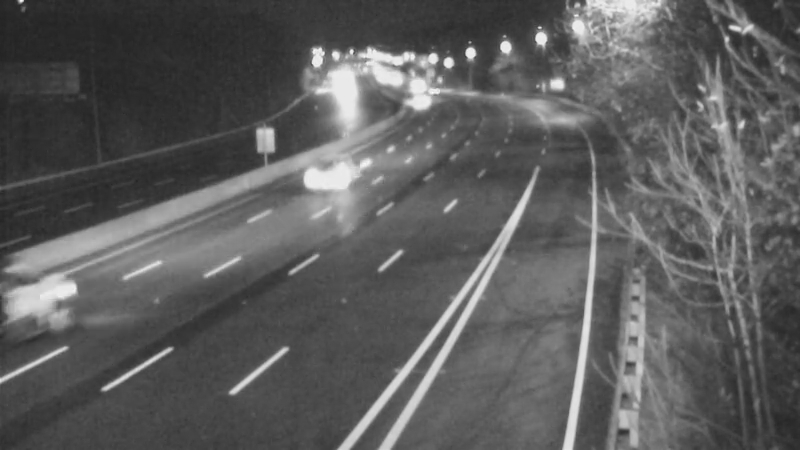vehicle: (301, 127, 381, 207), (1, 257, 76, 337), (406, 67, 456, 117), (397, 78, 447, 128)
